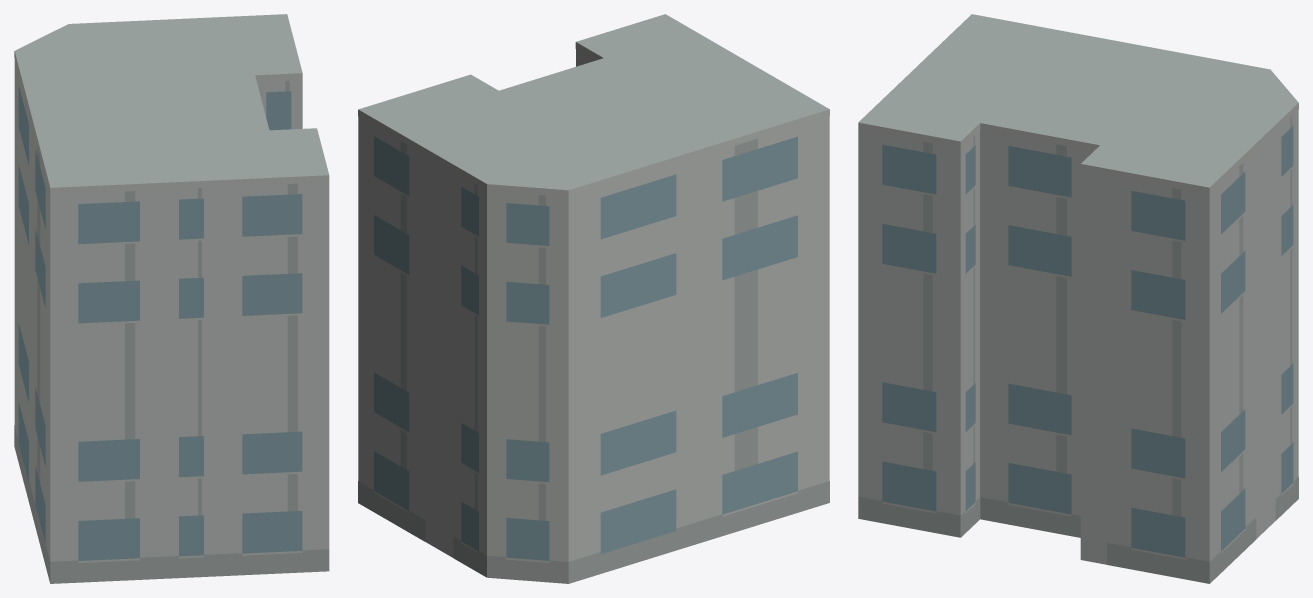
File: survey-upis-32553128.glb
The picture shows the model from 3 angles, left to right: view 1: azimuth 30°, elevation 25°; view 2: azimuth 150°, elevation 25°; view 3: azimuth 270°, elevation 25°; orthographic projection.
Parts seen in each view (by area): view 1: survey-upis-32553128.tmp; view 2: survey-upis-32553128.tmp; view 3: survey-upis-32553128.tmp.
Boxes of the visible parts, left/top/right/bottom form: survey-upis-32553128.tmp: left=14, top=14, right=329, bottom=583; survey-upis-32553128.tmp: left=358, top=14, right=829, bottom=583; survey-upis-32553128.tmp: left=858, top=14, right=1298, bottom=583.
Bounding box in the file's own units: 12.89 × 13.7 × 13.82.
